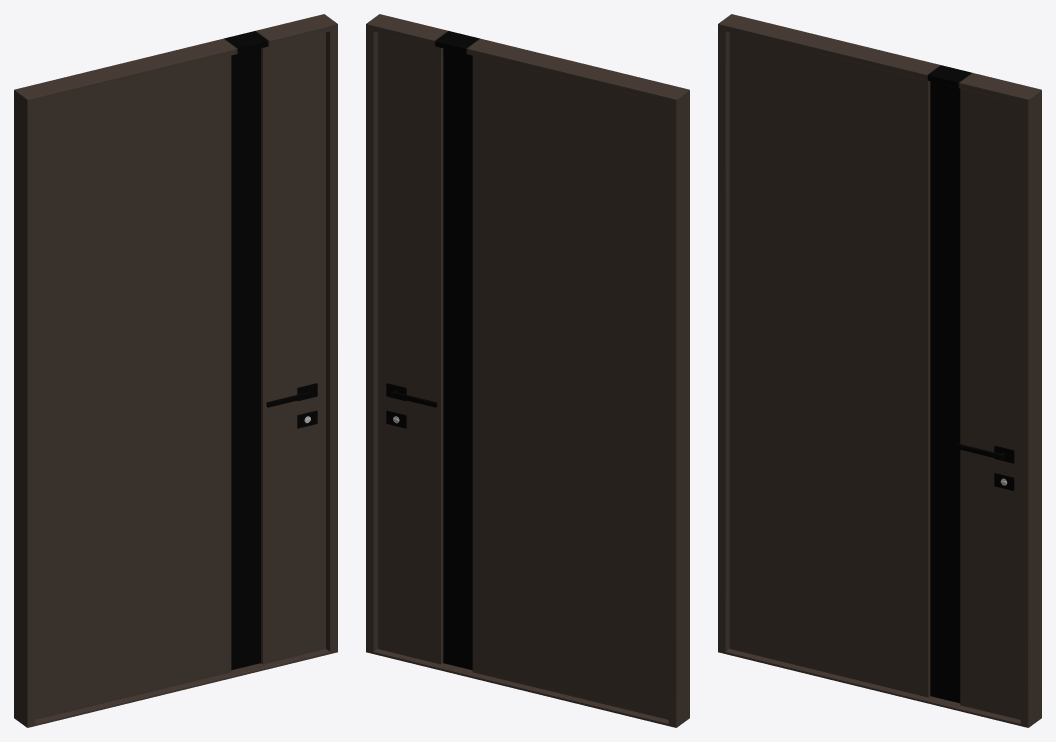
Rendered from door.glb.
3 renders of one model, left to right at view 1: azimuth 30°, elevation 25°; view 2: azimuth 150°, elevation 25°; view 3: azimuth 330°, elevation 25°, orthographic.
Parts seen in each view (by area): view 1: 1004Door01; view 2: 1004Door01; view 3: 1004Door01.
Boxes of the visible parts, box(x1,y1,x2,y2) form: 1004Door01: box(14, 14, 337, 727); 1004Door01: box(366, 14, 689, 727); 1004Door01: box(718, 14, 1041, 727).
Bounding box in the file's own units: 1.05 × 2.04 × 0.0873.
1 material, 1 textured.
